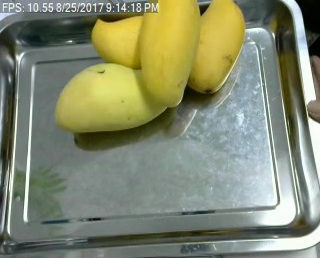Mango: (56, 58, 170, 131), (136, 0, 201, 107), (189, 0, 251, 96), (87, 12, 149, 69)
